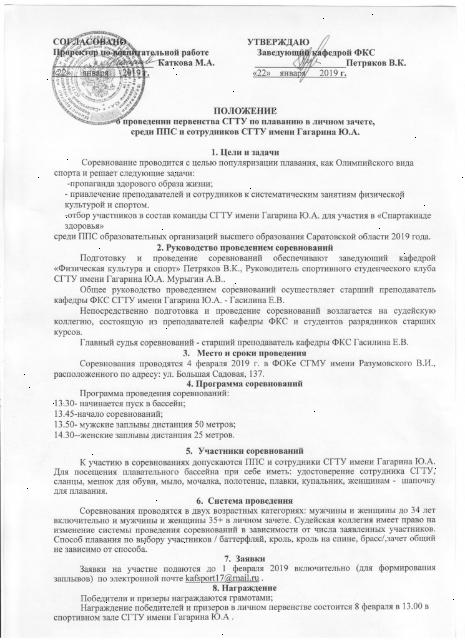stamp: (52, 30, 145, 124)
